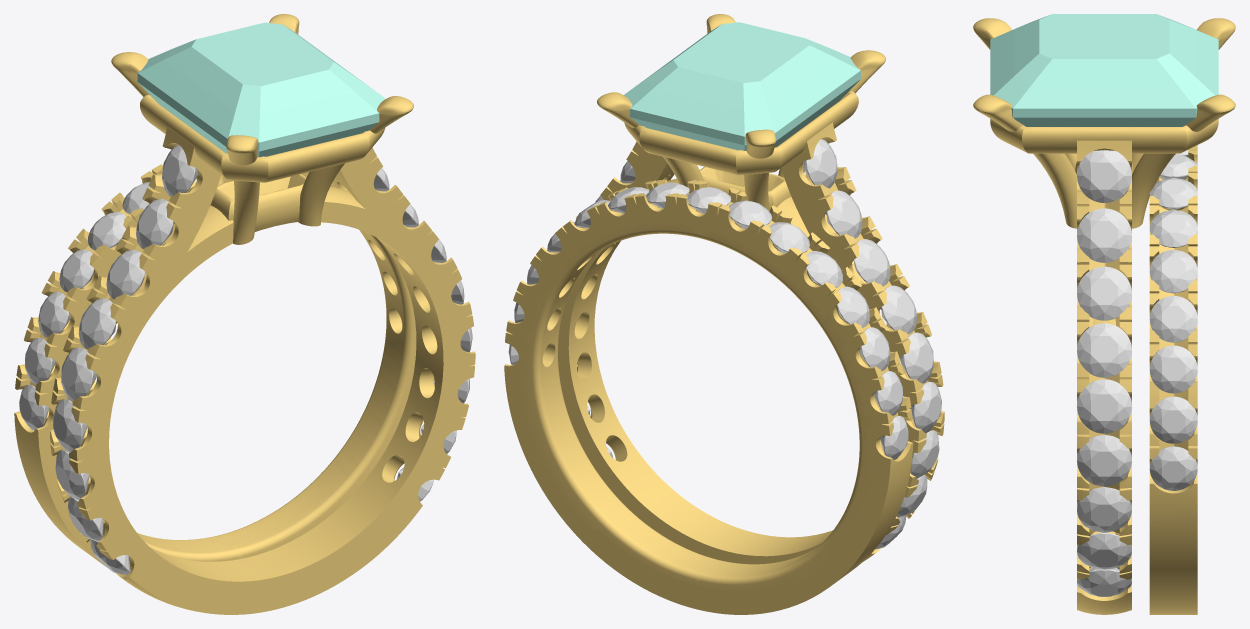
The model's file is StephBOTHyg4.glb.
3 renders of one model, left to right at view 1: azimuth 30°, elevation 25°; view 2: azimuth 150°, elevation 25°; view 3: azimuth 270°, elevation 25°, orthographic. The views are drawn at different scales.
Parts seen in each view (by area): view 1: Stephanie YG eng for 3d model, Stephanie YG wb for 3d model, Stephanie aquamarine eng for 3d model, Stephanie dia eng for 3d model.012, Stephanie dia eng for 3d model.011, Stephanie dia eng for 3d model.010, Stephanie dia eng for 3d model.013, Stephanie dia eng for 3d model.009, Stephanie dia eng for 3d model.014, Stephanie dia wb for 3d model.011, Stephanie dia wb for 3d model.010, Stephanie dia wb for 3d model.012 (+4 smaller); view 2: Stephanie YG wb for 3d model, Stephanie YG eng for 3d model, Stephanie aquamarine eng for 3d model, Stephanie dia eng for 3d model.012, Stephanie dia eng for 3d model.011, Stephanie dia eng for 3d model.010, Stephanie dia eng for 3d model.013, Stephanie dia eng for 3d model.009, Stephanie dia eng for 3d model.014, Stephanie dia wb for 3d model.011, Stephanie dia wb for 3d model.010, Stephanie dia wb for 3d model.012 (+8 smaller); view 3: Stephanie aquamarine eng for 3d model, Stephanie YG eng for 3d model, Stephanie YG wb for 3d model, Stephanie dia eng for 3d model.003, Stephanie dia eng for 3d model.004, Stephanie dia eng for 3d model.001, Stephanie dia eng for 3d model, Stephanie dia eng for 3d model.002, Stephanie dia eng for 3d model.005, Stephanie dia eng for 3d model.006, Stephanie dia wb for 3d model.002, Stephanie dia wb for 3d model.001 (+8 smaller).
Part boxes in pixels (left/top/right/bottom): Stephanie YG eng for 3d model: left=50, top=14, right=475, bottom=614; Stephanie YG wb for 3d model: left=14, top=164, right=423, bottom=566; Stephanie aquamarine eng for 3d model: left=137, top=22, right=385, bottom=157; Stephanie dia eng for 3d model.012: left=78, top=298, right=116, bottom=349; Stephanie dia eng for 3d model.011: left=106, top=249, right=144, bottom=299; Stephanie dia eng for 3d model.010: left=136, top=199, right=173, bottom=249; Stephanie dia eng for 3d model.013: left=61, top=347, right=96, bottom=400; Stephanie dia eng for 3d model.009: left=162, top=145, right=198, bottom=196; Stephanie dia eng for 3d model.014: left=52, top=399, right=87, bottom=452; Stephanie dia wb for 3d model.011: left=59, top=249, right=94, bottom=292; Stephanie dia wb for 3d model.010: left=88, top=212, right=126, bottom=250; Stephanie dia wb for 3d model.012: left=38, top=292, right=70, bottom=337; Stephanie YG wb for 3d model: left=504, top=179, right=913, bottom=614; Stephanie YG eng for 3d model: left=558, top=14, right=944, bottom=564; Stephanie aquamarine eng for 3d model: left=624, top=22, right=860, bottom=150; Stephanie dia eng for 3d model.012: left=881, top=285, right=917, bottom=334; Stephanie dia eng for 3d model.011: left=853, top=239, right=890, bottom=286; Stephanie dia eng for 3d model.010: left=826, top=190, right=862, bottom=238; Stephanie dia eng for 3d model.013: left=900, top=332, right=933, bottom=383; Stephanie dia eng for 3d model.009: left=803, top=139, right=837, bottom=188; Stephanie dia eng for 3d model.014: left=909, top=382, right=941, bottom=432; Stephanie dia wb for 3d model.011: left=837, top=286, right=870, bottom=327; Stephanie dia wb for 3d model.010: left=806, top=251, right=842, bottom=287; Stephanie dia wb for 3d model.012: left=860, top=327, right=890, bottom=371; Stephanie aquamarine eng for 3d model: left=990, top=14, right=1218, bottom=126; Stephanie YG eng for 3d model: left=973, top=18, right=1235, bottom=614; Stephanie YG wb for 3d model: left=1149, top=145, right=1197, bottom=614; Stephanie dia eng for 3d model.003: left=1077, top=323, right=1131, bottom=377; Stephanie dia eng for 3d model.004: left=1077, top=379, right=1131, bottom=433; Stephanie dia eng for 3d model.001: left=1077, top=208, right=1131, bottom=262; Stephanie dia eng for 3d model: left=1077, top=150, right=1131, bottom=202; Stephanie dia eng for 3d model.002: left=1077, top=266, right=1131, bottom=320; Stephanie dia eng for 3d model.005: left=1077, top=435, right=1131, bottom=486; Stephanie dia eng for 3d model.006: left=1077, top=487, right=1131, bottom=532; Stephanie dia wb for 3d model.002: left=1149, top=345, right=1197, bottom=393; Stephanie dia wb for 3d model.001: left=1149, top=396, right=1197, bottom=443.
Bounding box in the file's own units: 20.81 × 26.87 × 11.49.
